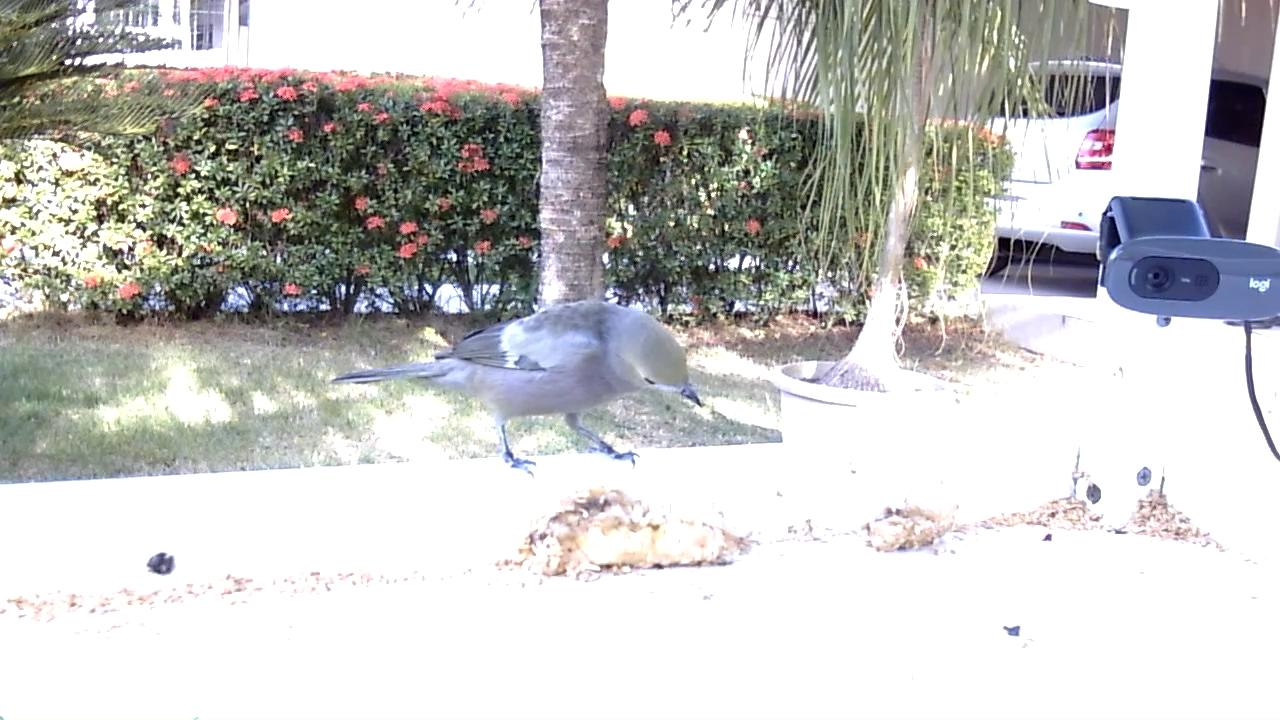sanhaco_do_coqueiro: (333, 299, 703, 479)
